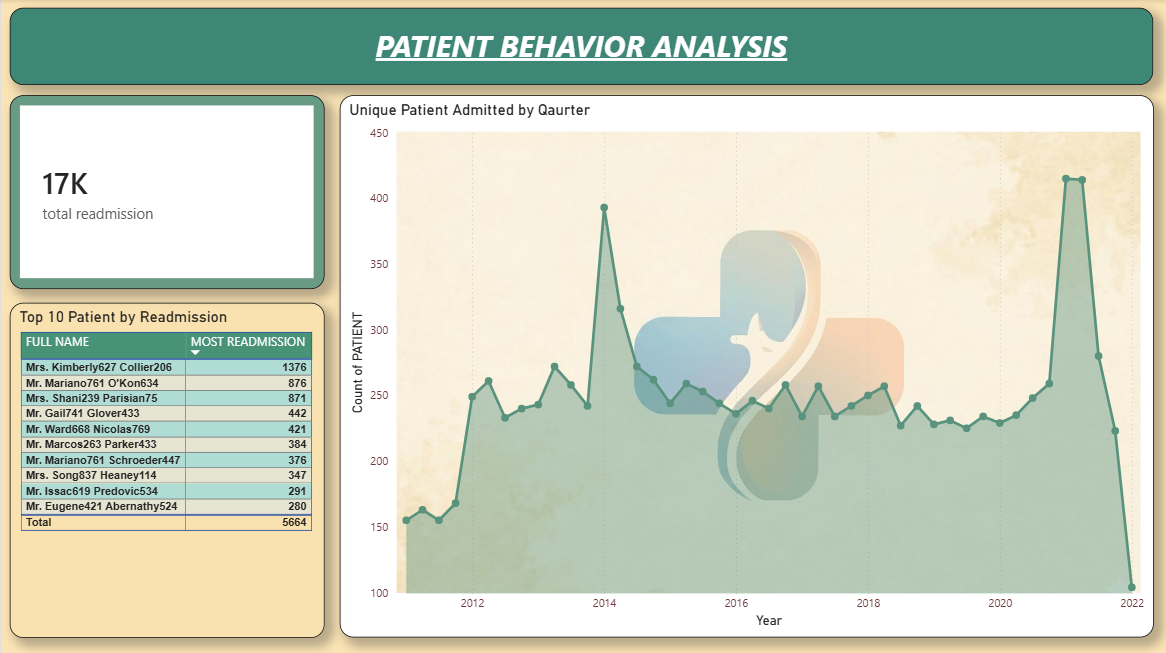

The page's visual inventory and layout, read from the dashboard file:
{"tool":"powerbi","page":{"name":"PATIENT BEHAVIOR ANALYSIS","canvas":[1280,720],"ordinal":2},"visuals":[{"type":"textbox","box":[9.6,9.6,1255.6,85.1],"z":0},{"type":"lineChart","title":"Unique Patient Admitted by Qaurter","fields":{"Y":["Count(encounters.PATIENT)"],"Category":["encounters.START.Variation.Date Hierarchy.Year","encounters.START.Variation.Date Hierarchy.Quarter"]},"box":[371.9,105.7,893.3,595.5],"z":1000},{"type":"tableEx","title":"Top 10 Patient by Readmission","fields":{"Values":["patients.FULL NAME","Sum(encounters.readmission flag)"]},"box":[9.6,333.4,345.8,367.8],"z":2000},{"type":"cardVisual","fields":{"Data":["encounters.total readmission"]},"box":[9.6,105.7,345.8,212.7],"z":3000}]}

Visuals, with their boxes in screenshot pixels (x1, y1, x2, y2), scaled from the page's 1280x720 canvas onto the 1166x653 screenshot:
textbox: select_region(9, 9, 1153, 86)
"Unique Patient Admitted by Qaurter" lineChart: select_region(339, 96, 1153, 636)
"Top 10 Patient by Readmission" tableEx: select_region(9, 302, 324, 636)
cardVisual - encounters.total readmission: select_region(9, 96, 324, 289)
